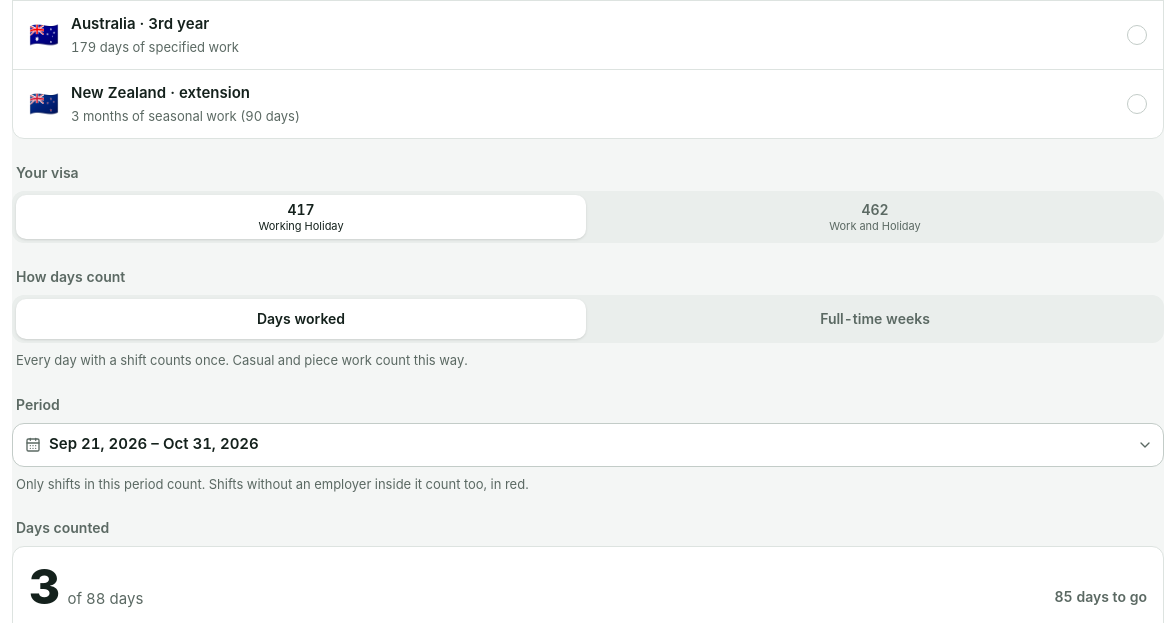
Visa report › switching to New Zealand counts its employer instead
Step 1. Click the radio button with test id "visa-program-nz-3m" → (160, 92), box left=13, top=70, right=1163, bottom=138
(page scrolled)
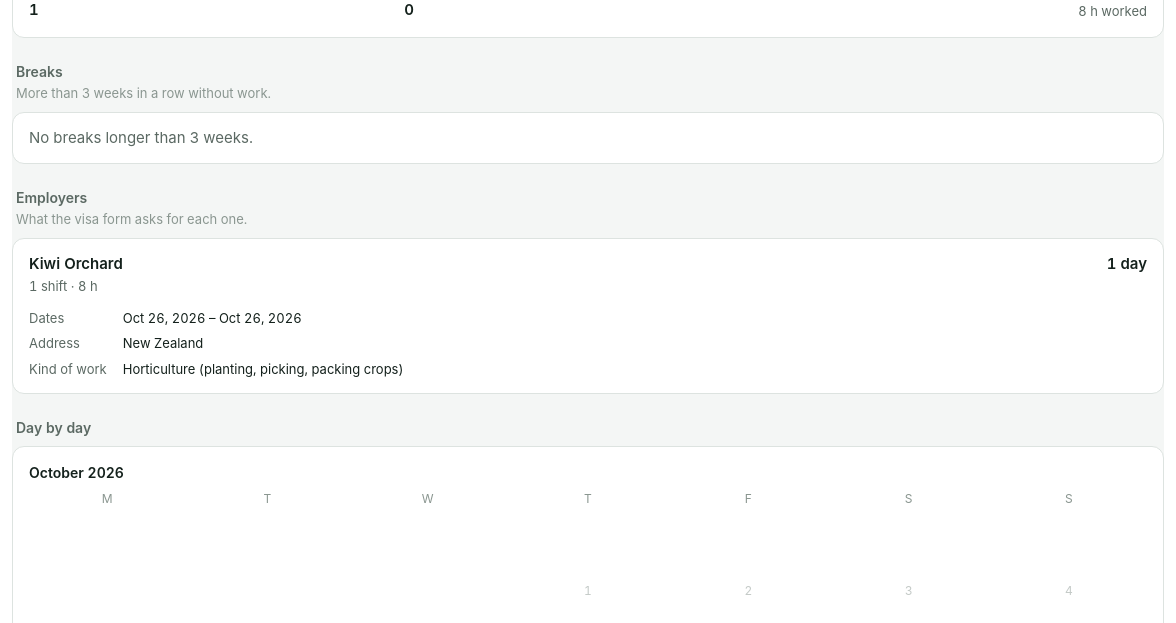
Result: the heading "Kiwi Orchard" is shown at left=29, top=252, right=123, bottom=275
